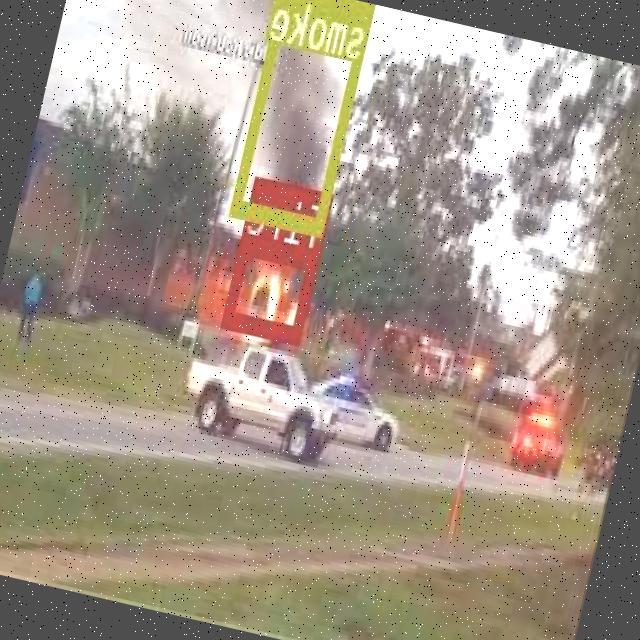fire: (224, 233, 322, 343)
smoke: (231, 0, 376, 234)
